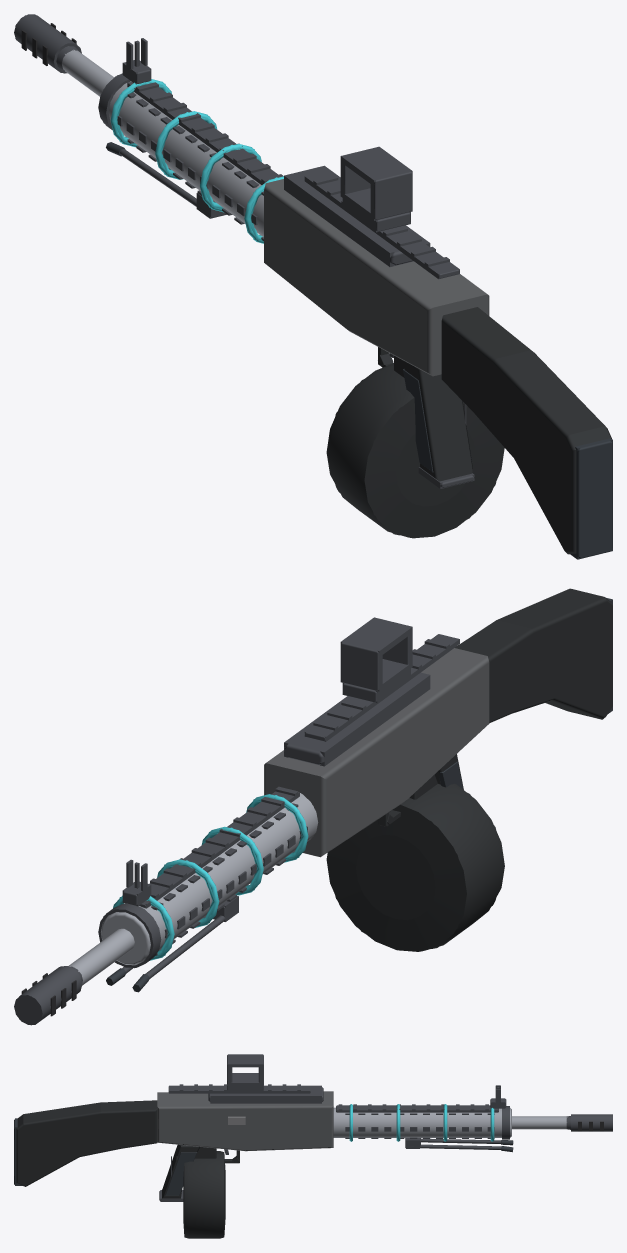
Rendered from l_volt.glb.
3 views of the same model, one above another, from view 1: azimuth 30°, elevation 25°; view 2: azimuth 150°, elevation 25°; view 3: azimuth 270°, elevation 25° (orthographic). The views are drawn at different scales.
Visible parts, largest first — view 1: L0, L1; view 2: L0, L1; view 3: L0, L1.
Part boxes in pixels (x1,y1,x2,y2): L0: [14, 14, 612, 558]; L1: [15, 15, 612, 559]; L0: [14, 588, 612, 1024]; L1: [14, 598, 612, 1025]; L0: [14, 1054, 612, 1238]; L1: [15, 1054, 612, 1238].
Size of the model in its own units: 0.15 by 0.3295 by 1.02.
